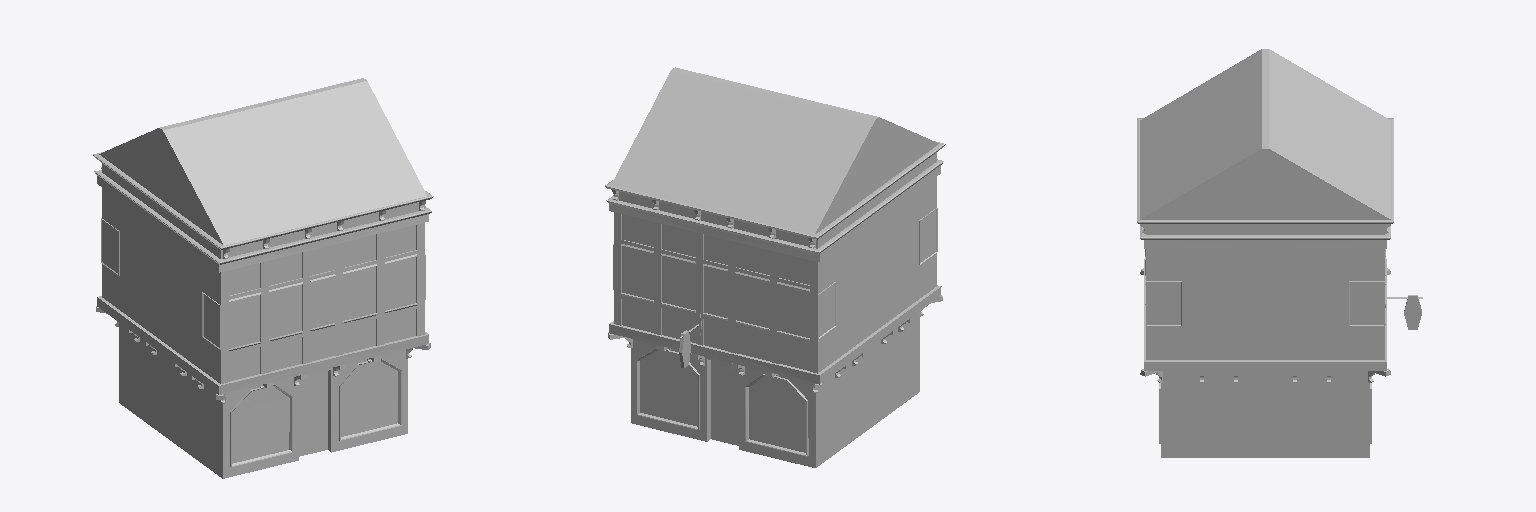
The model's file is house20.obj.
The picture shows the model from 3 angles: view 1: azimuth 30°, elevation 25°; view 2: azimuth 150°, elevation 25°; view 3: azimuth 270°, elevation 25°; orthographic projection.
Parts seen in each view (by area): view 1: City_building_030.001; view 2: City_building_030.001; view 3: City_building_030.001.
Part boxes in pixels (left/top/right/bottom): City_building_030.001: left=93, top=78, right=433, bottom=478; City_building_030.001: left=605, top=67, right=945, bottom=467; City_building_030.001: left=1137, top=49, right=1422, bottom=457.
Bounding box in the file's own units: 1.41 × 1.97 × 1.62.